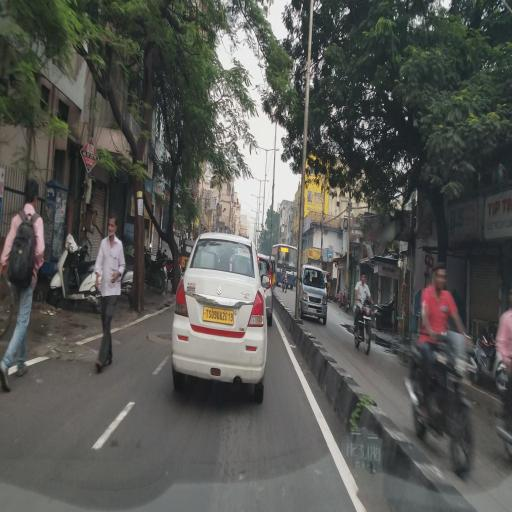street_light_0: (263, 138, 284, 158), (249, 135, 265, 158), (246, 168, 261, 189), (260, 172, 274, 192)
